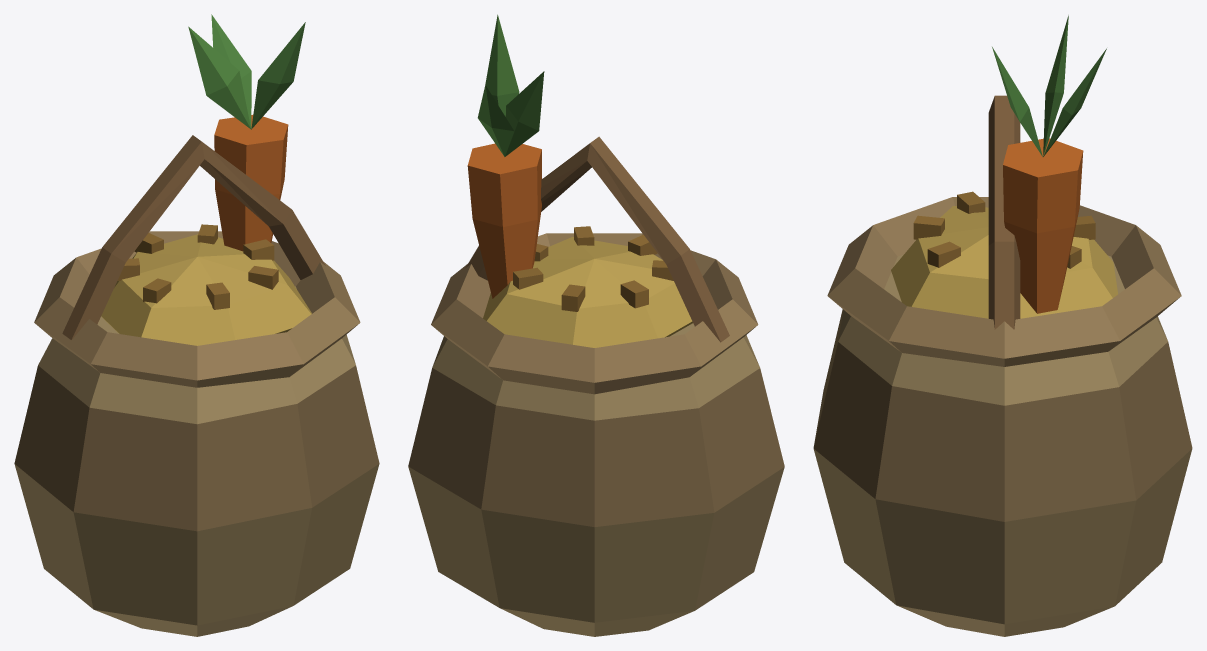
File: held_feed_bag.glb
3 renders of one model, left to right at view 1: azimuth 30°, elevation 25°; view 2: azimuth 150°, elevation 25°; view 3: azimuth 270°, elevation 25°, orthographic. The views are drawn at different scales.
Visible parts, largest first — view 1: held_feed_bag; view 2: held_feed_bag; view 3: held_feed_bag.
Boxes of the visible parts, x1=… form: held_feed_bag: x1=14, y1=14, x2=379, y2=636; held_feed_bag: x1=408, y1=14, x2=784, y2=636; held_feed_bag: x1=813, y1=15, x2=1192, y2=636.
Bounding box in the file's own units: 0.393 × 0.65 × 0.3685.
